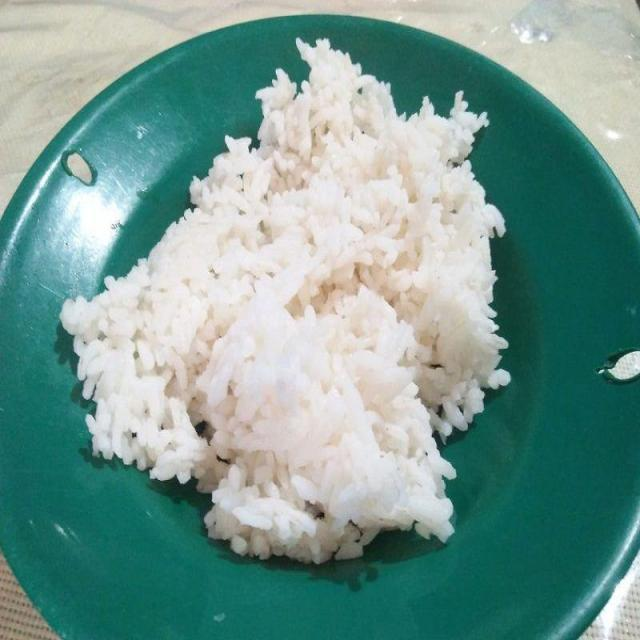nasi_putih: (62, 34, 514, 571)
